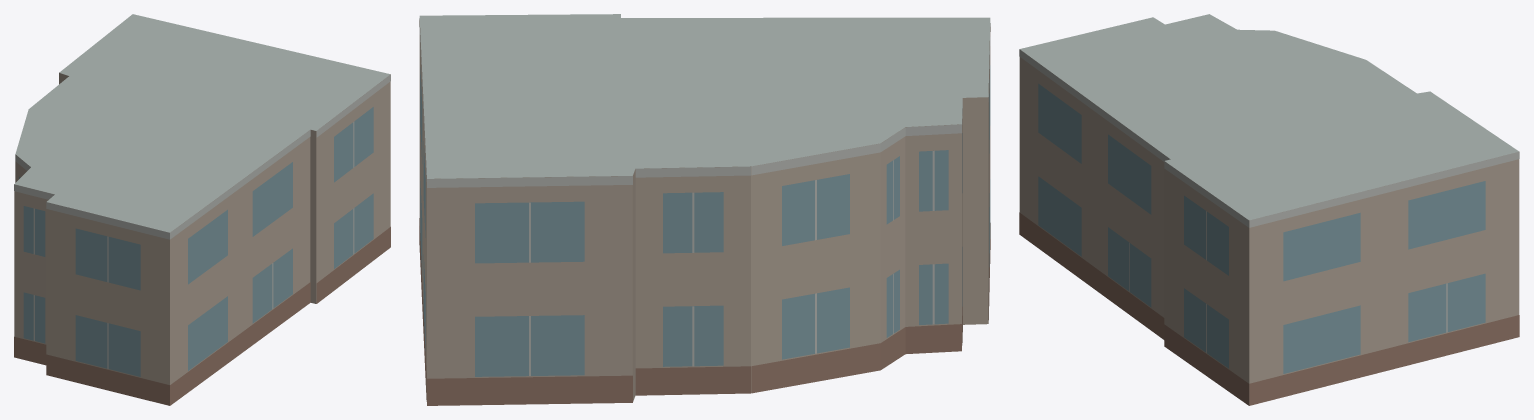
The model's file is survey-upis-32922841.glb.
The picture shows the model from 3 angles, left to right: view 1: azimuth 30°, elevation 25°; view 2: azimuth 150°, elevation 25°; view 3: azimuth 270°, elevation 25°; orthographic projection. The views are drawn at different scales.
Parts seen in each view (by area): view 1: survey-upis-32922841.tmp; view 2: survey-upis-32922841.tmp; view 3: survey-upis-32922841.tmp.
Boxes of the visible parts, bbox=[...] form: survey-upis-32922841.tmp: bbox=[14, 14, 390, 405]; survey-upis-32922841.tmp: bbox=[419, 14, 990, 405]; survey-upis-32922841.tmp: bbox=[1019, 14, 1519, 405].
Size of the model in its own units: 14.58 by 6.1 by 14.92.
